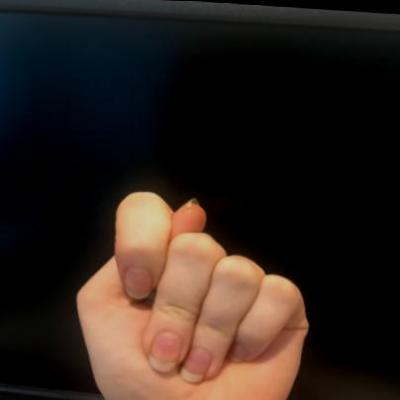hand: (62, 181, 322, 399)
